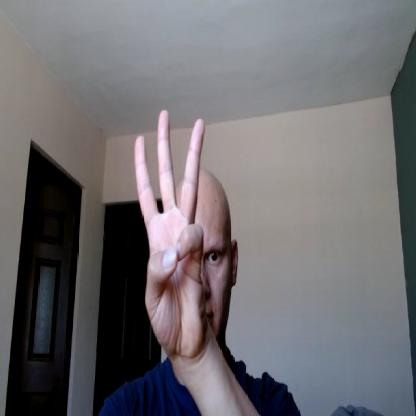W: (134, 107, 206, 359)
